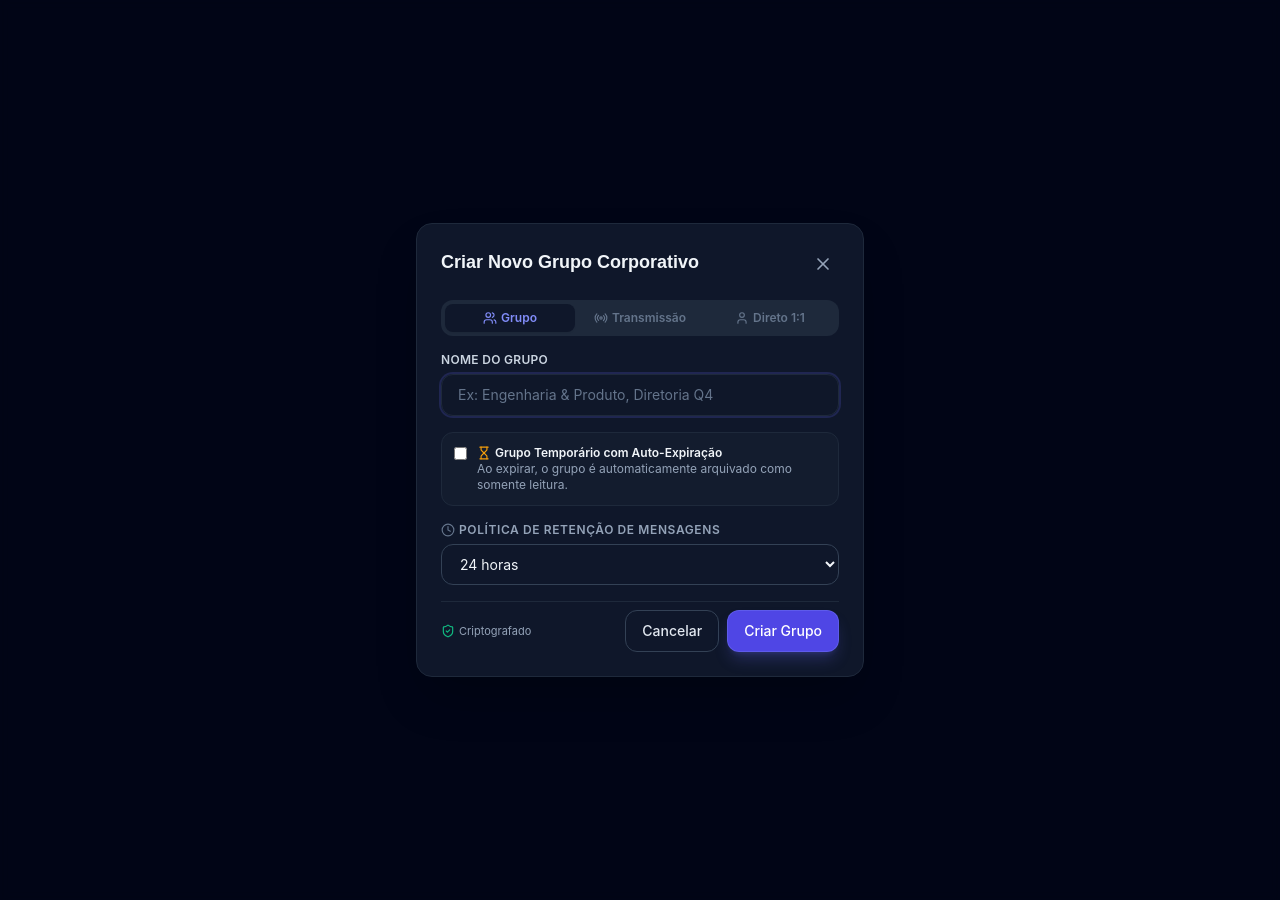
Test case: Chat Components & Real-time UI (T-13 / T-14) › NewChatModal › handles temporary group toggle with retention period and error display on failure
This screenshot has width=1280, height=900.
Type "Squad War Room" into the field with placeholder "Ex: Engenharia & Produto, Diretoria Q4". click: (640, 395)
box: 441,374 -> 839,416
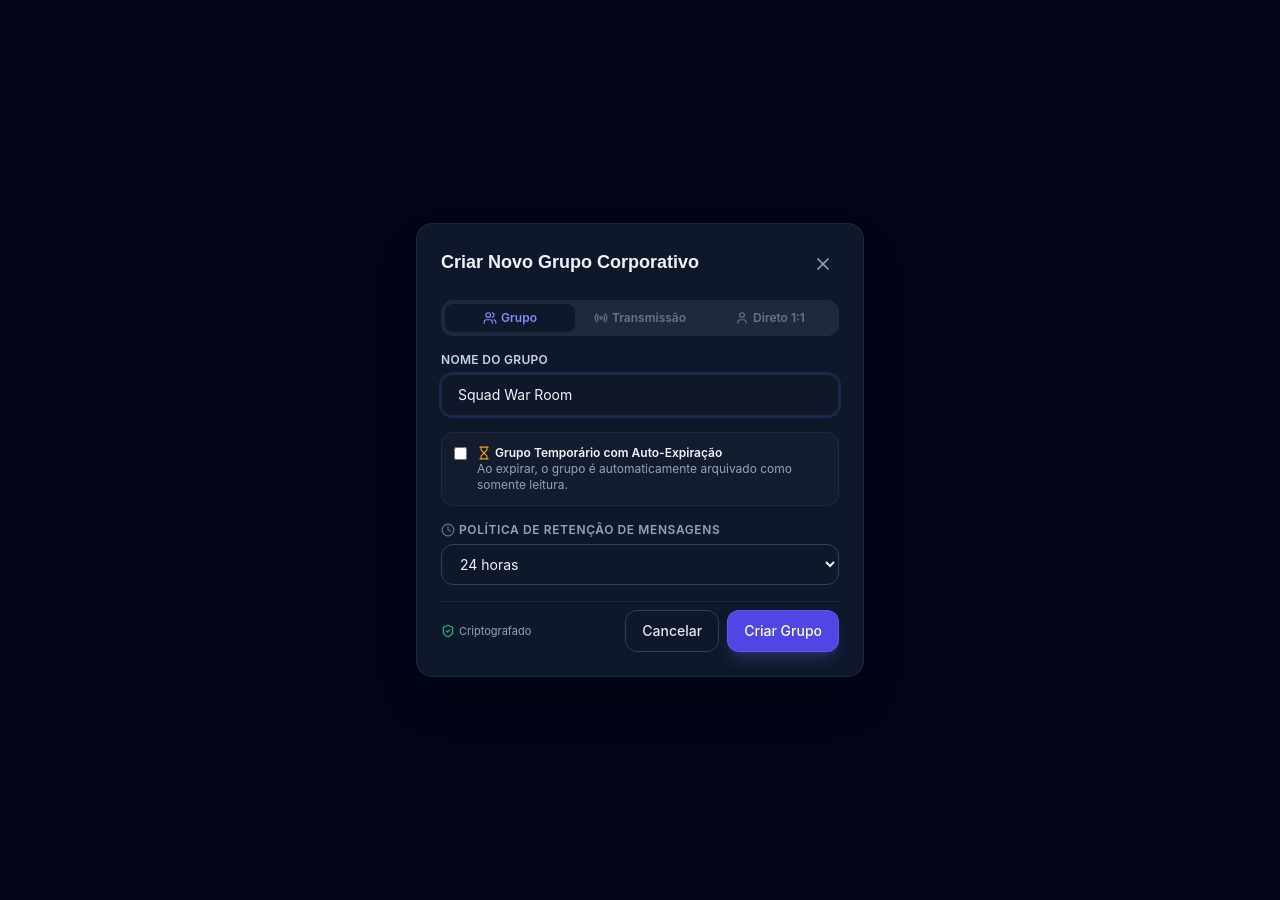
# Check temporary group checkbox to make it temporary
Click the checkbox. click: (460, 454)
box: 454,447 -> 467,460
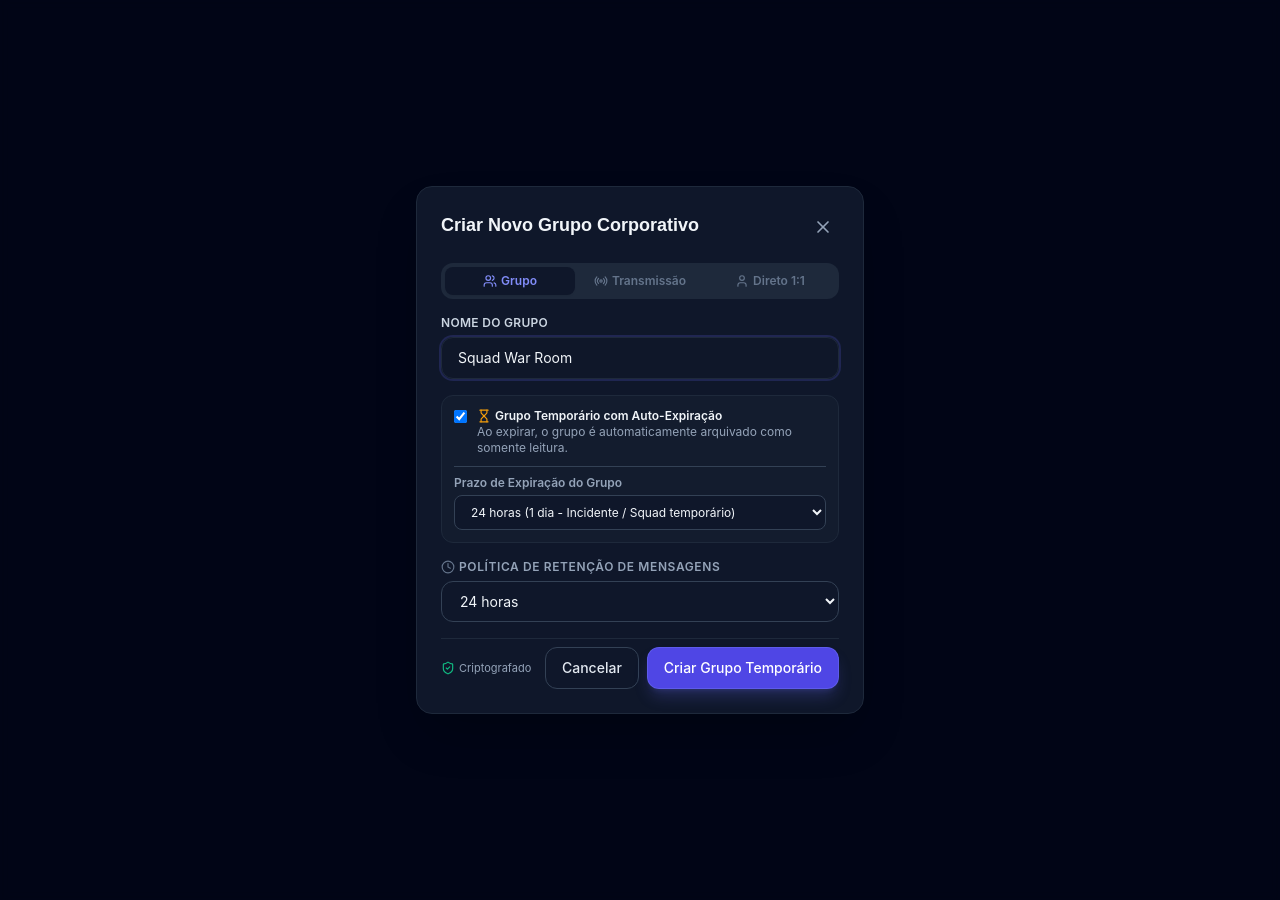
Expected: the button "Criar Grupo Temporário" is shown
Click the button "Criar Grupo Temporário". click: (743, 668)
box: 647,647 -> 839,689
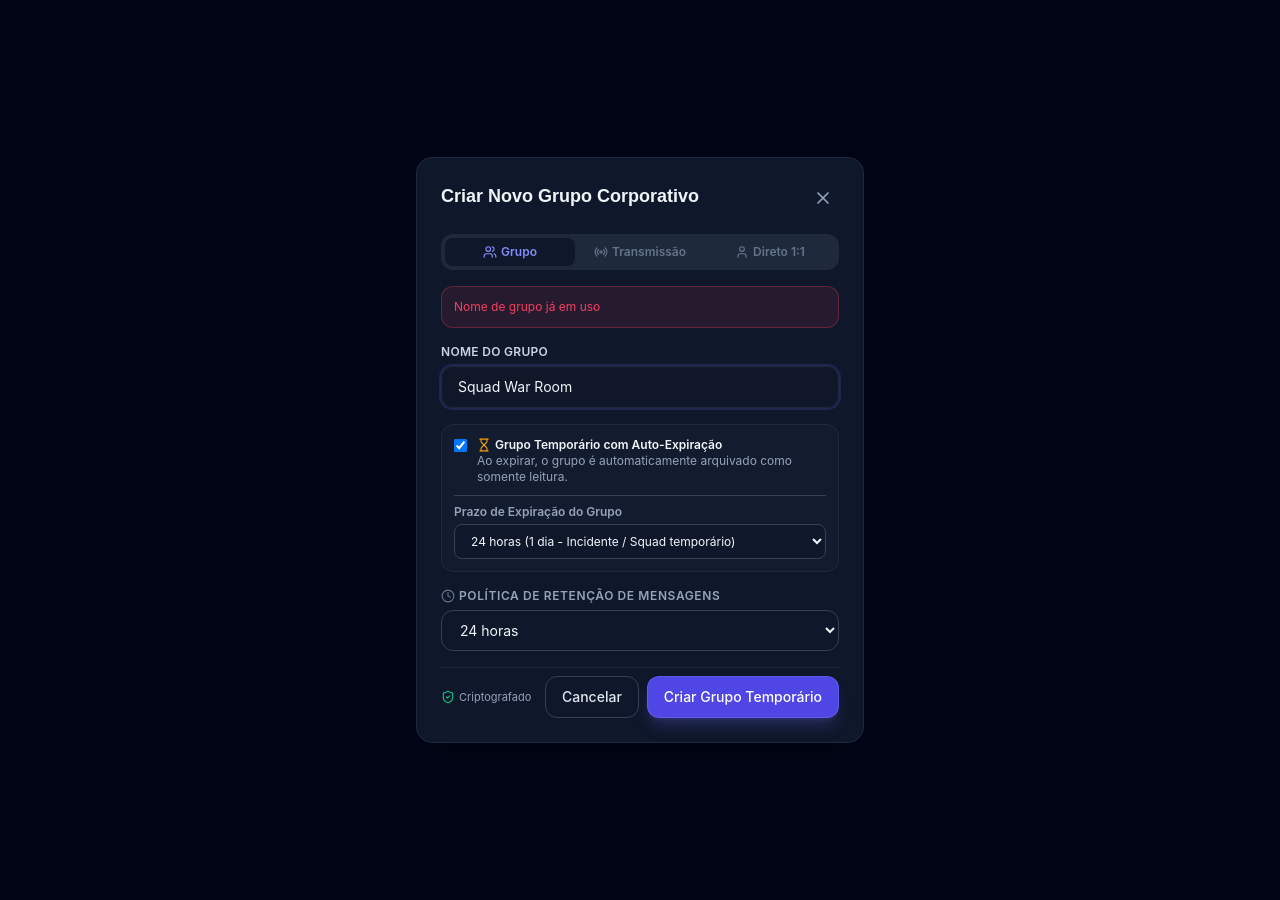
Expected: the text "Nome de grupo já em uso" is shown, 441,286 -> 839,328
